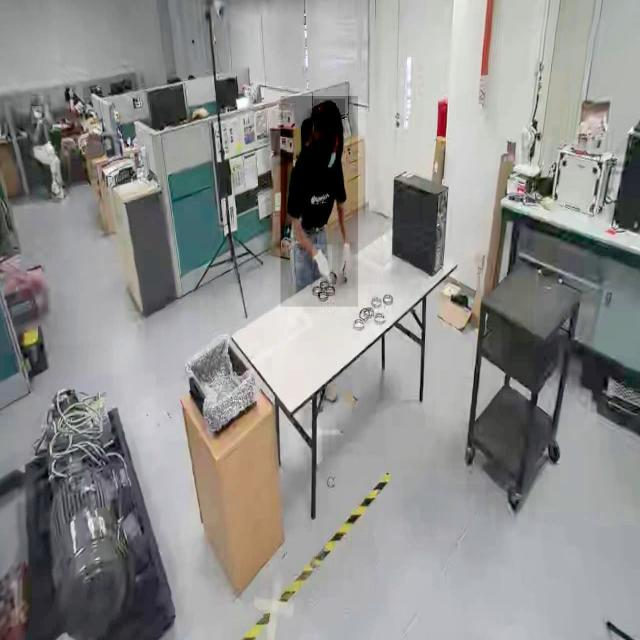face_mask: (314, 140, 336, 172), (32, 105, 42, 124)
hand_glove: (312, 244, 332, 294), (338, 242, 356, 290)
head_nohelmet: (313, 99, 345, 133), (31, 96, 43, 106), (65, 86, 75, 92)
person: (280, 96, 358, 308), (23, 90, 67, 210)
